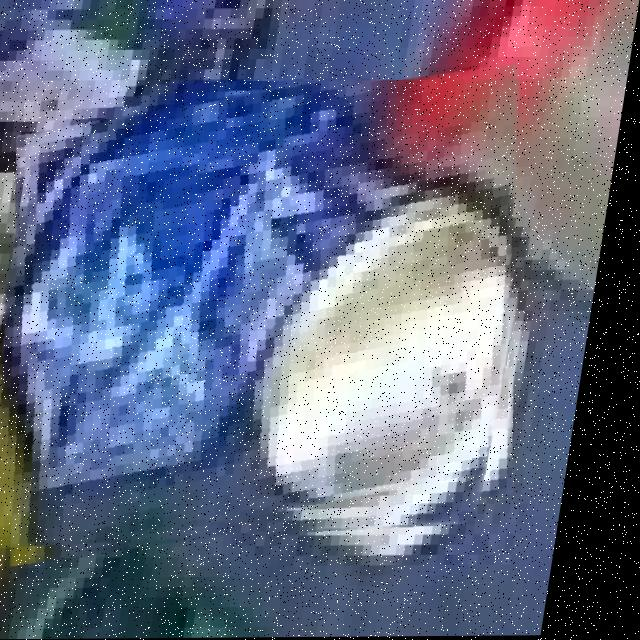litter: (0, 80, 565, 551)
